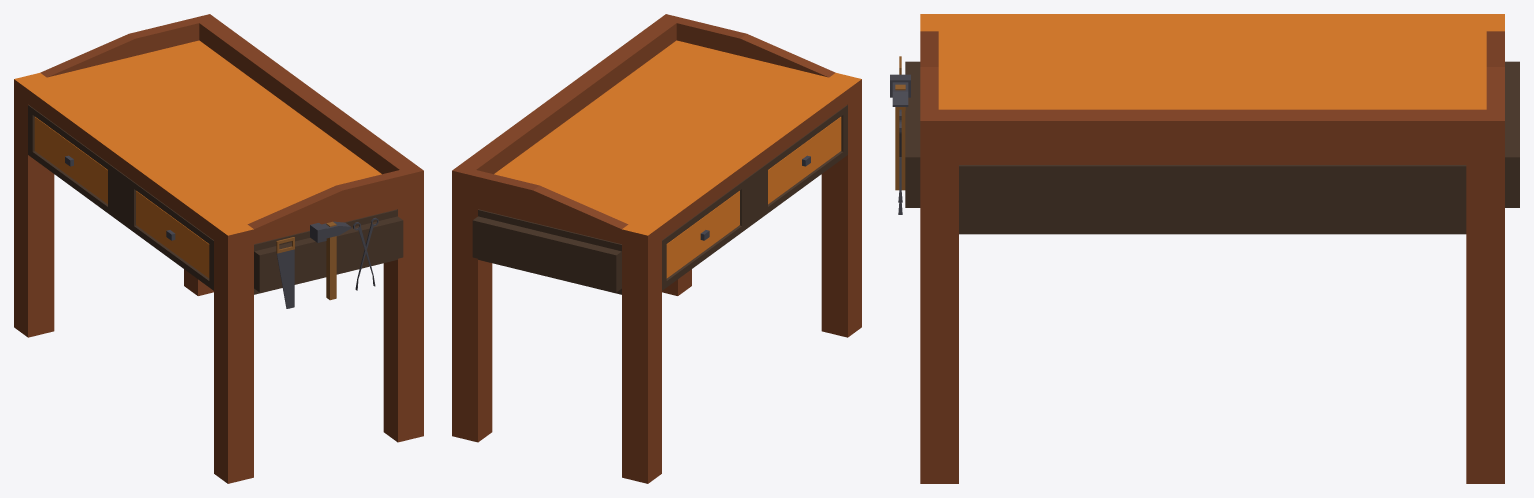
The model's file is workbench.fbx.
3 renders of one model, left to right at view 1: azimuth 30°, elevation 25°; view 2: azimuth 150°, elevation 25°; view 3: azimuth 270°, elevation 25°, orthographic. The views are drawn at different scales.
Visible parts, largest first — view 1: work_bench; view 2: work_bench; view 3: work_bench.
Boxes of the visible parts, x1=… form: work_bench: x1=14, y1=14, x2=423, y2=483; work_bench: x1=452, y1=14, x2=861, y2=483; work_bench: x1=890, y1=14, x2=1519, y2=483.
Bounding box in the file's own units: 83.76 × 107 × 168.
